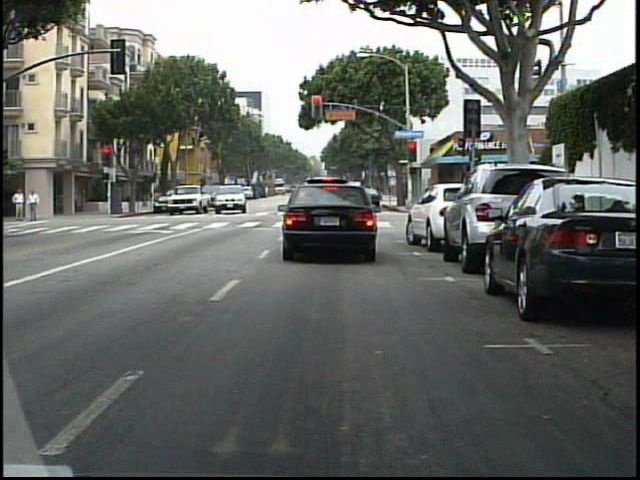person: (28, 187, 43, 223), (14, 185, 28, 221)
